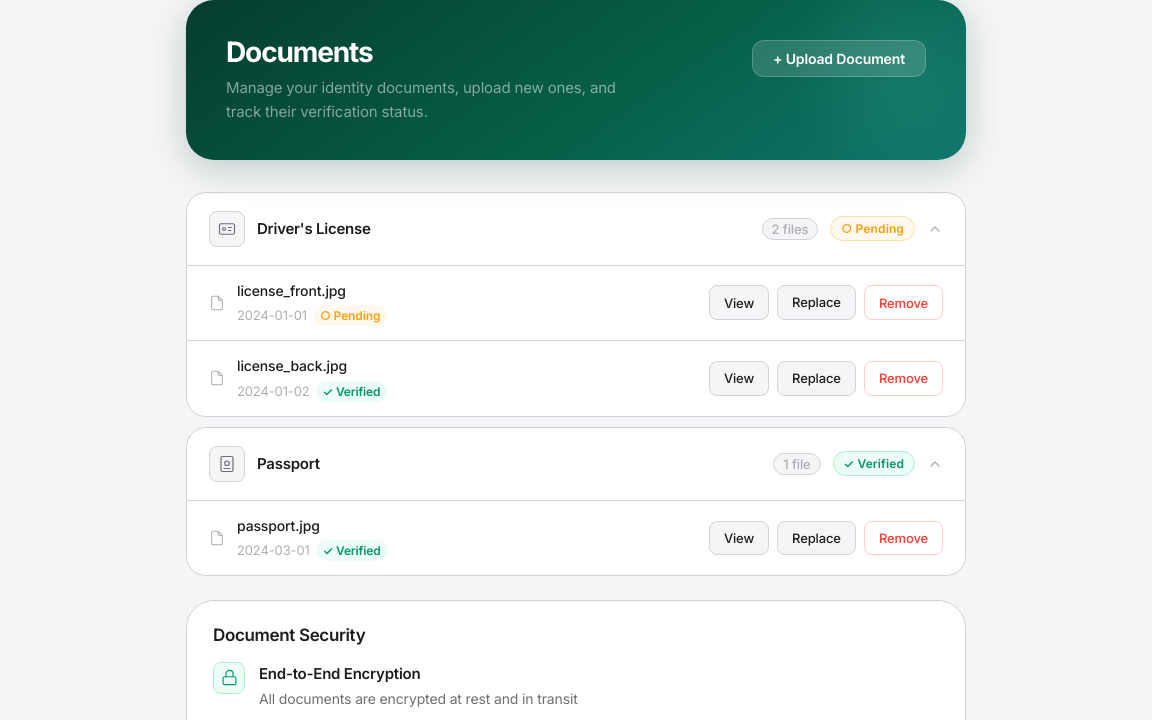
Test: Documents Page › closes modal when Cancel is clicked
Click the button "+ Upload Document": coordinates (839, 58) [752,40,926,77]
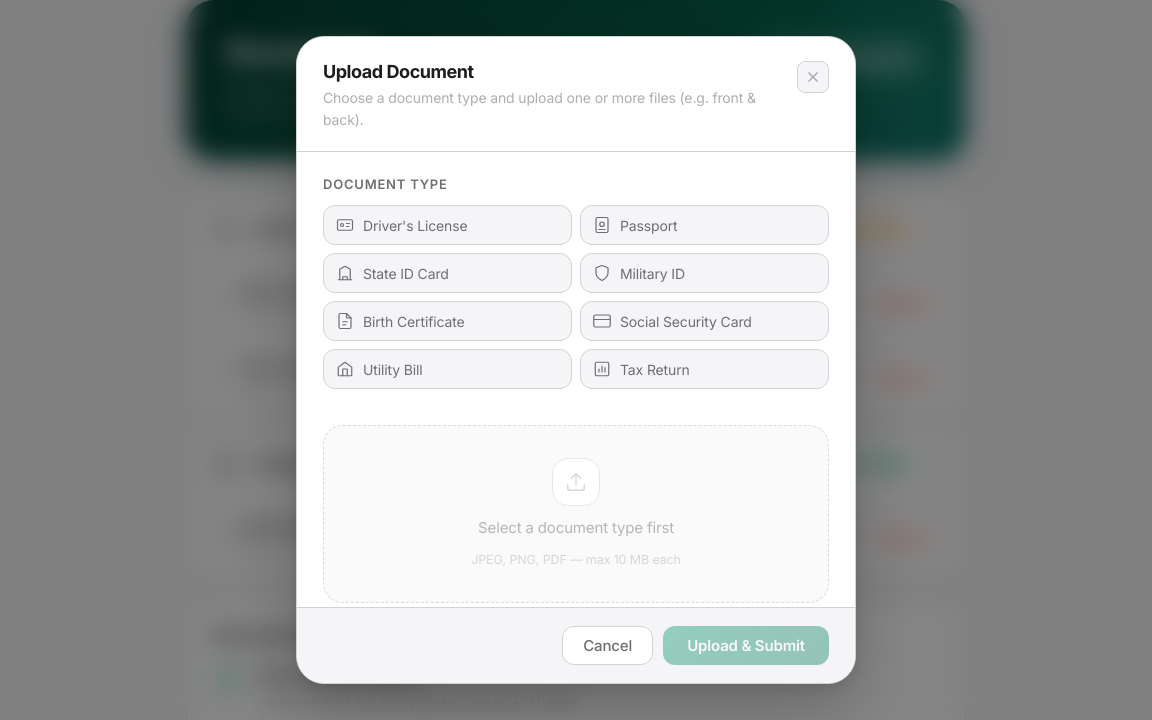
Check: the heading "Upload Document" is shown, box [323,61,474,82]
Click the button "Cancel": coordinates (608, 646) [562,626,653,665]
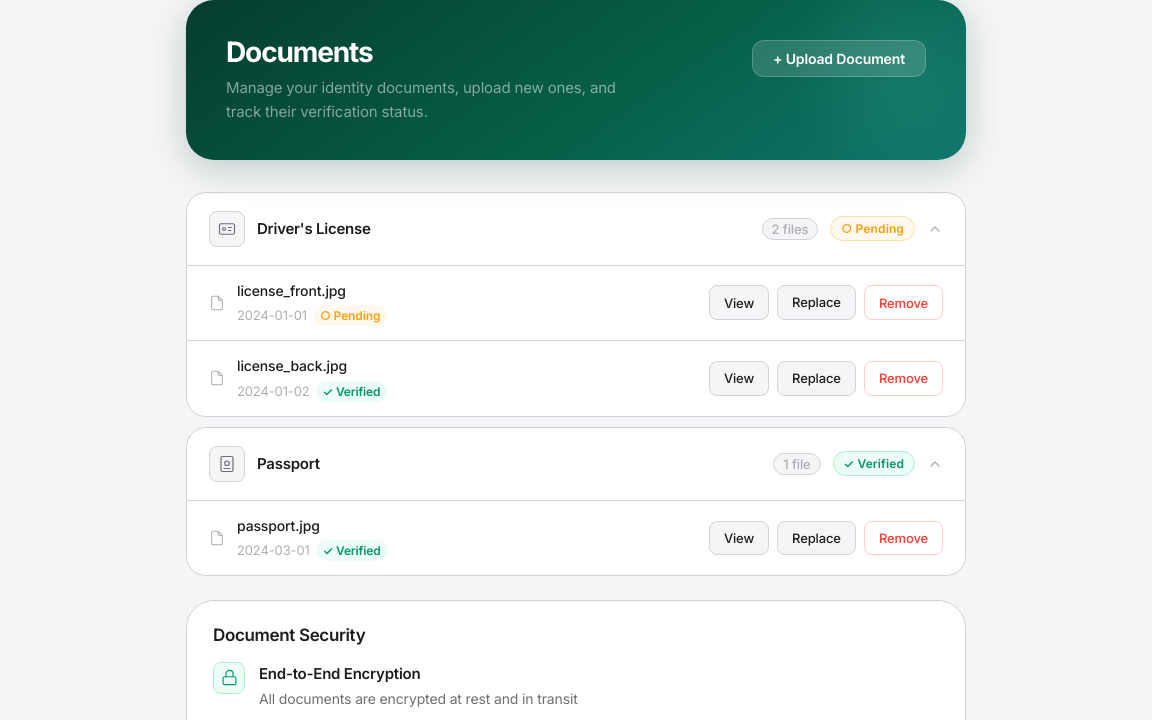
Check: the text "Choose a document type" is gone
